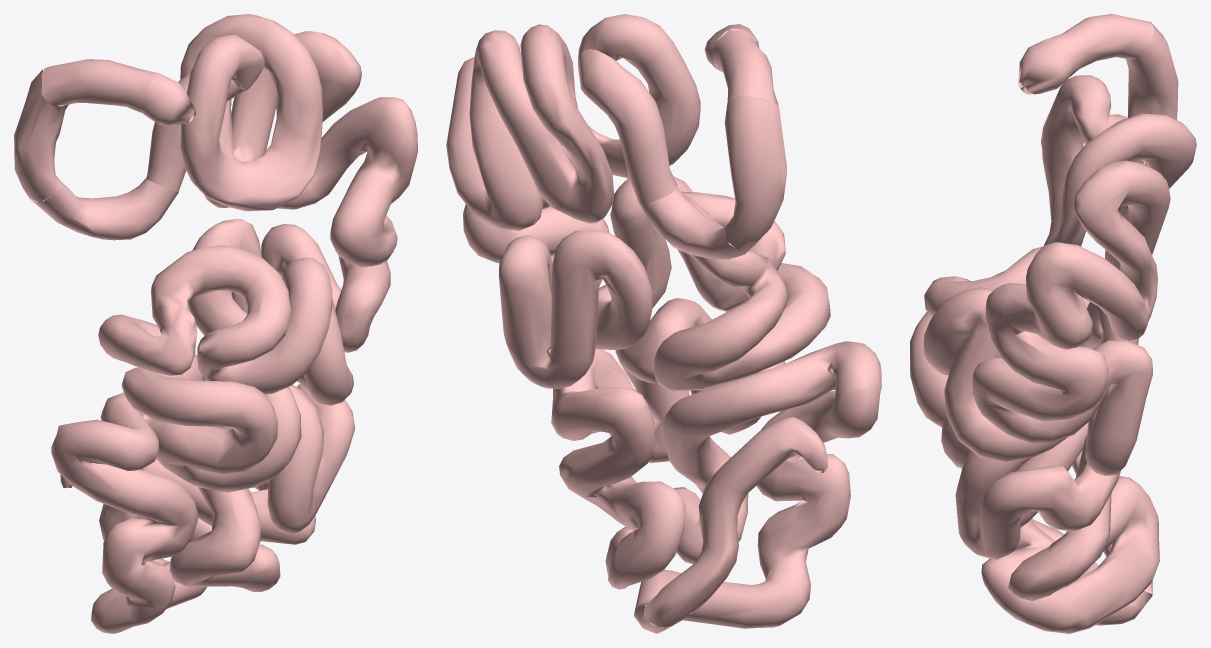
The model's file is vh_m_small_intestine-40.glb.
The picture shows the model from 3 angles, left to right: view 1: azimuth 30°, elevation 25°; view 2: azimuth 150°, elevation 25°; view 3: azimuth 270°, elevation 25°; orthographic projection. The views are drawn at different scales.
Parts seen in each view (by area): view 1: VH_M_jejunum, VH_M_ileum, VH_M_duodenum_horizonal, VH_M_duodenum_superior, VH_M_duodenum_descending, VH_M_duodenum_ascending, VH_M_duodenal_ampulla, VH_M_ileum_terminal; view 2: VH_M_jejunum, VH_M_ileum, VH_M_ileum_terminal, VH_M_duodenum_descending, VH_M_duodenum_ascending, VH_M_duodenum_horizonal, VH_M_duodenum_superior; view 3: VH_M_jejunum, VH_M_ileum, VH_M_duodenum_superior, VH_M_duodenum_descending, VH_M_duodenal_ampulla.
Part boxes in pixels (x1,y1,x2,y2): VH_M_jejunum: (98,14,417,405); VH_M_ileum: (51,367,355,633); VH_M_duodenum_horizonal: (30,178,178,240); VH_M_duodenum_superior: (41,59,156,112); VH_M_duodenum_descending: (14,69,69,202); VH_M_duodenum_ascending: (146,73,244,191); VH_M_duodenal_ampulla: (142,73,196,125); VH_M_ileum_terminal: (60,469,156,561); VH_M_jejunum: (446,14,787,391); VH_M_ileum: (551,263,881,633); VH_M_ileum_terminal: (644,417,827,627); VH_M_duodenum_descending: (724,96,786,250); VH_M_duodenum_ascending: (578,49,677,205); VH_M_duodenum_horizonal: (640,187,767,259); VH_M_duodenum_superior: (712,29,778,105); VH_M_jejunum: (923,75,1196,475); VH_M_ileum: (910,312,1159,633); VH_M_duodenum_superior: (1050,14,1153,76); VH_M_duodenum_descending: (1126,21,1178,119); VH_M_duodenal_ampulla: (1018,38,1072,94).
Bounding box in the file's own units: 0.188 × 0.2655 × 0.1219.
